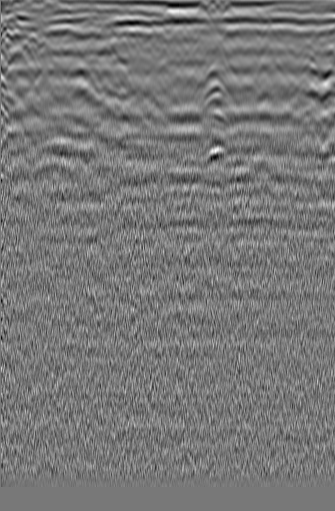가스: (198, 127, 232, 166)
상수: (25, 38, 60, 64)
오수: (292, 38, 320, 69)
우수: (147, 42, 182, 77)
